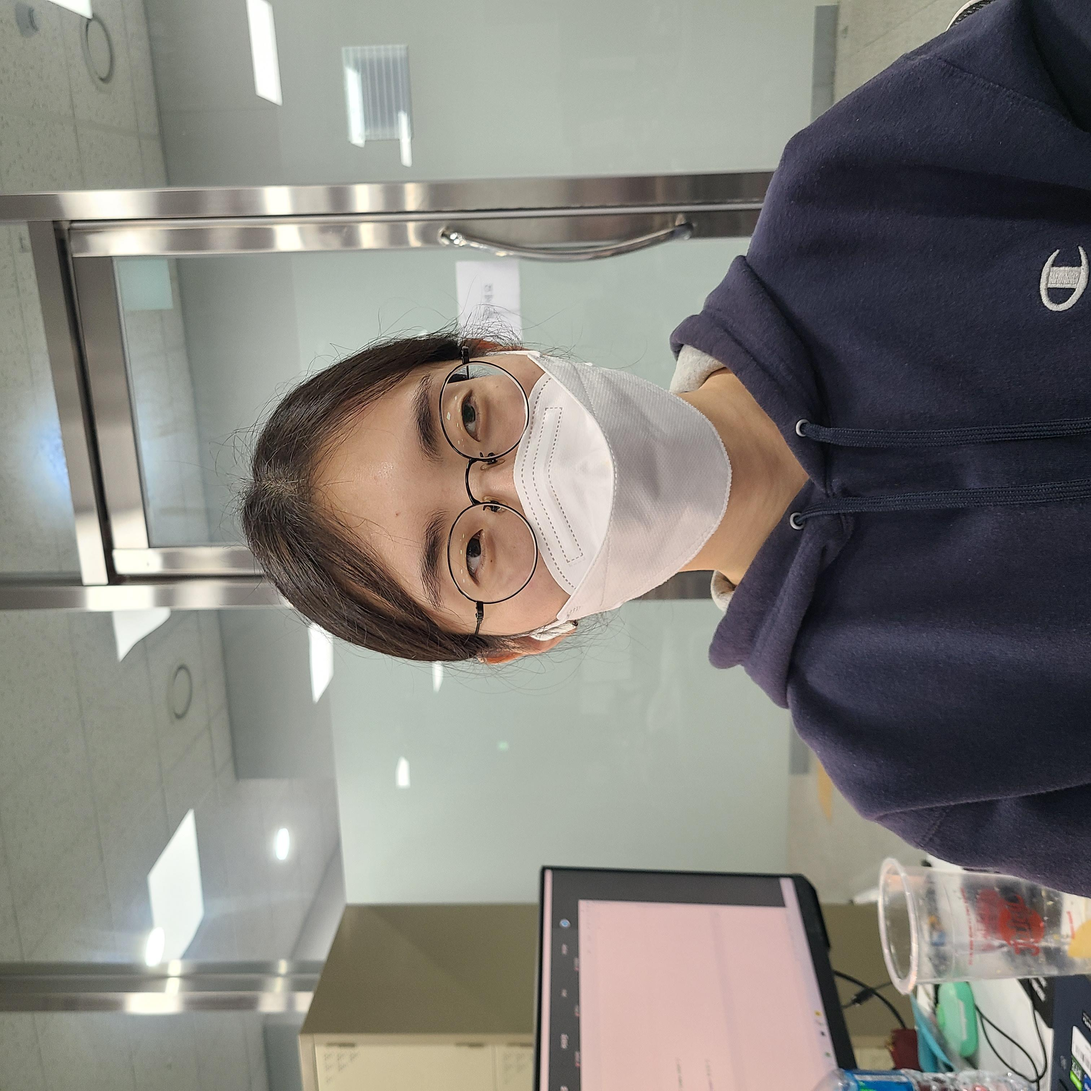earphone: (441, 516, 481, 588)
